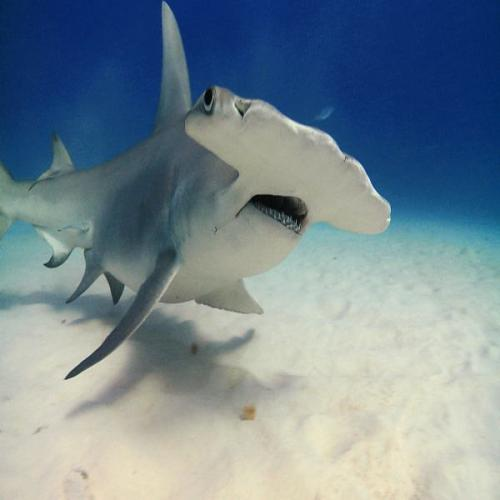shark-endangered: (0, 0, 394, 384)
